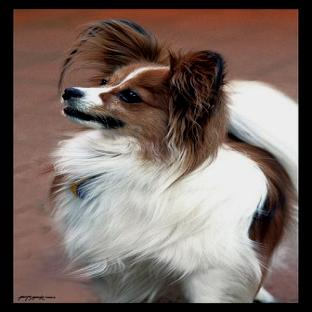Animal: (51, 20, 298, 303)
